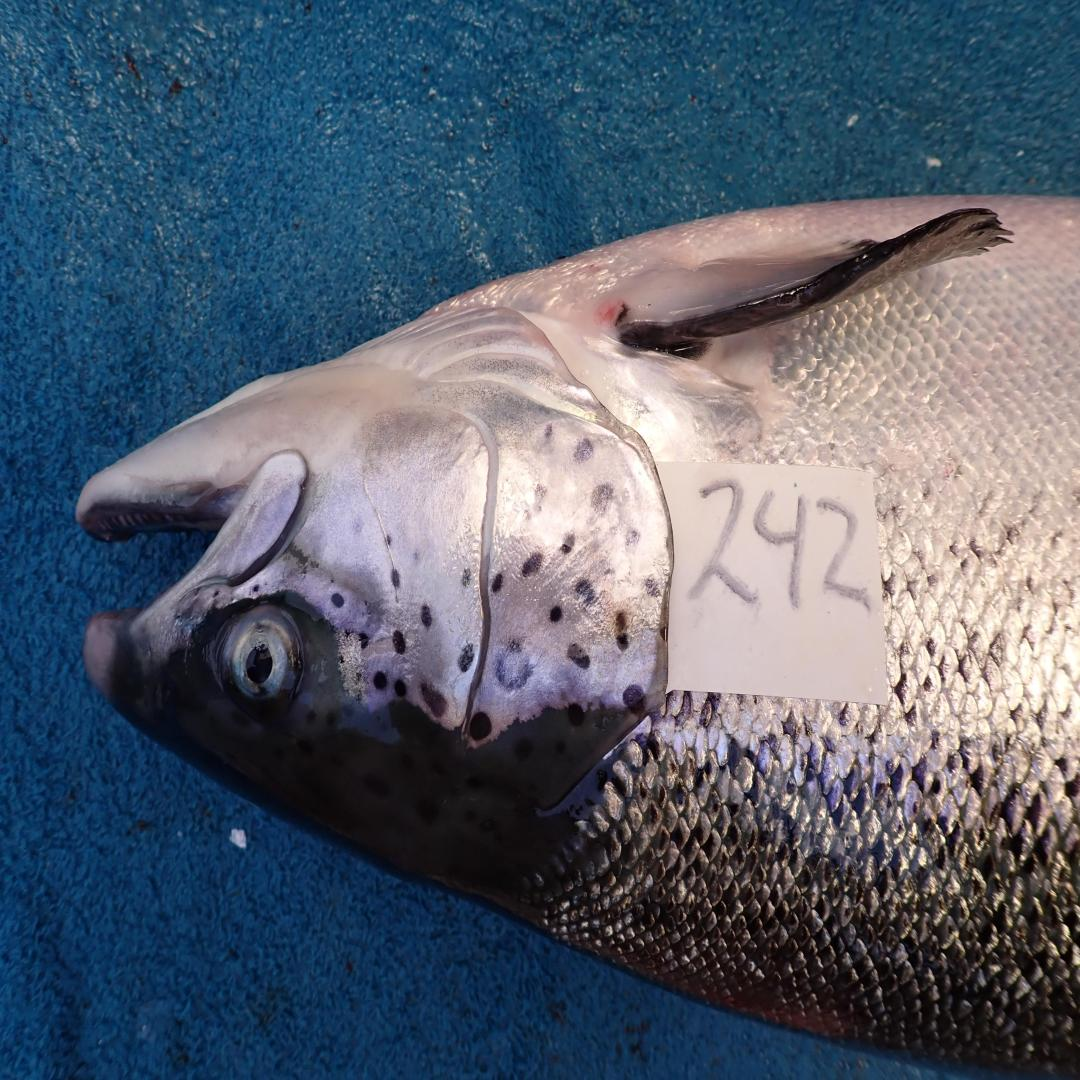spot: (494, 638, 534, 692), (420, 683, 447, 717), (591, 484, 614, 515), (622, 683, 645, 714), (574, 579, 597, 608), (643, 574, 669, 599), (567, 644, 591, 669), (529, 484, 548, 515), (470, 712, 491, 740), (521, 551, 542, 577), (458, 644, 477, 672), (371, 669, 394, 692), (616, 610, 629, 650), (574, 439, 593, 461), (567, 703, 584, 726), (559, 532, 576, 554), (624, 529, 641, 548), (392, 630, 405, 652), (420, 605, 432, 627), (394, 678, 407, 698), (544, 422, 555, 444), (390, 568, 401, 588), (491, 574, 502, 593), (354, 667, 365, 686), (551, 605, 563, 622), (331, 593, 344, 608), (359, 633, 369, 650), (462, 568, 470, 588), (386, 535, 392, 546), (413, 551, 419, 561), (345, 630, 354, 636), (340, 655, 345, 664)
